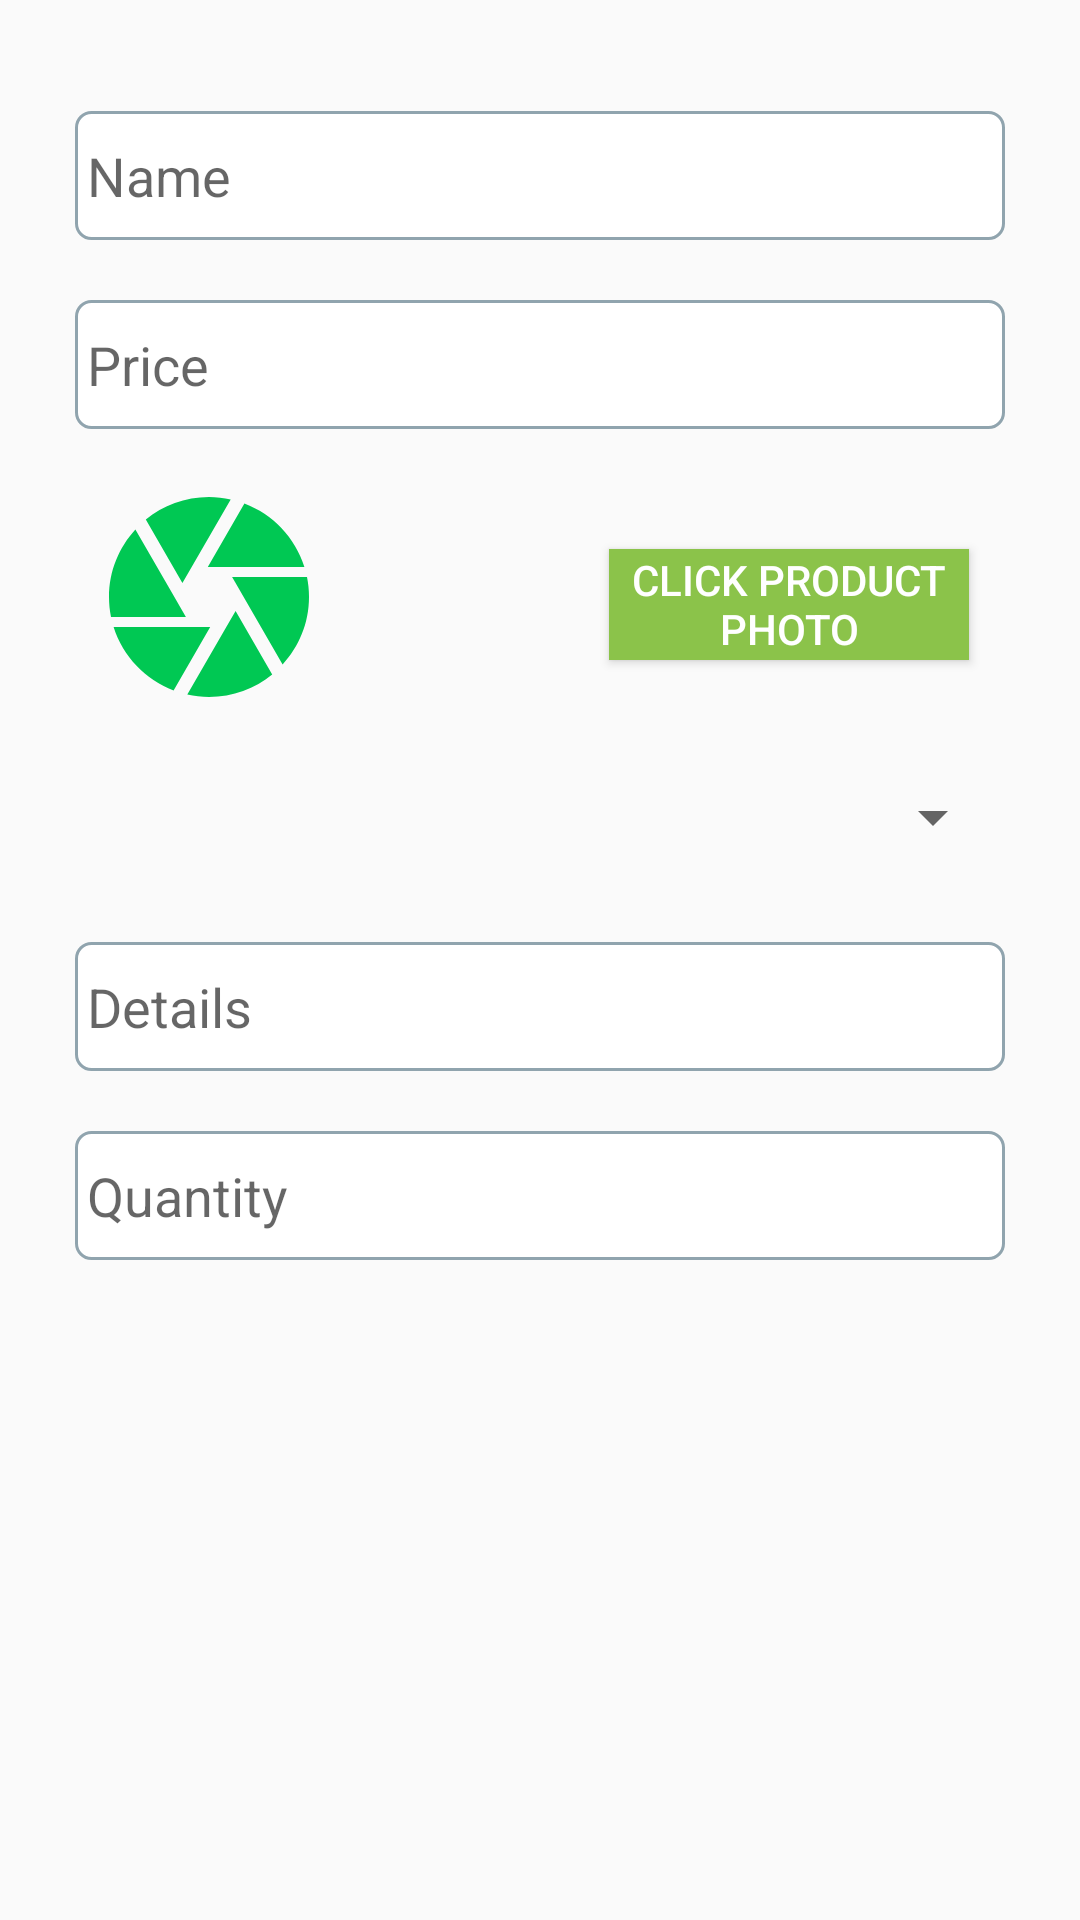

Screen size 1080 x 1920. Icon name, then its box in pixels as (x1, y1, x2, y2):
camera: (109, 497, 309, 697)
